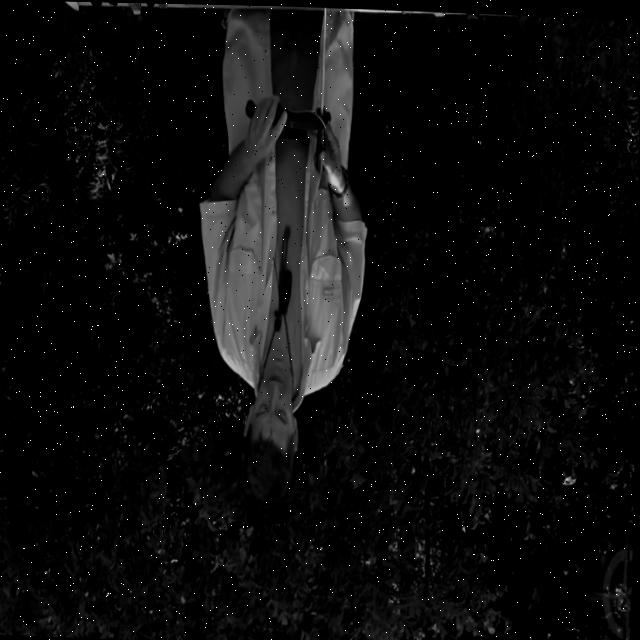knife: (272, 98, 327, 130), (515, 12, 536, 20)
